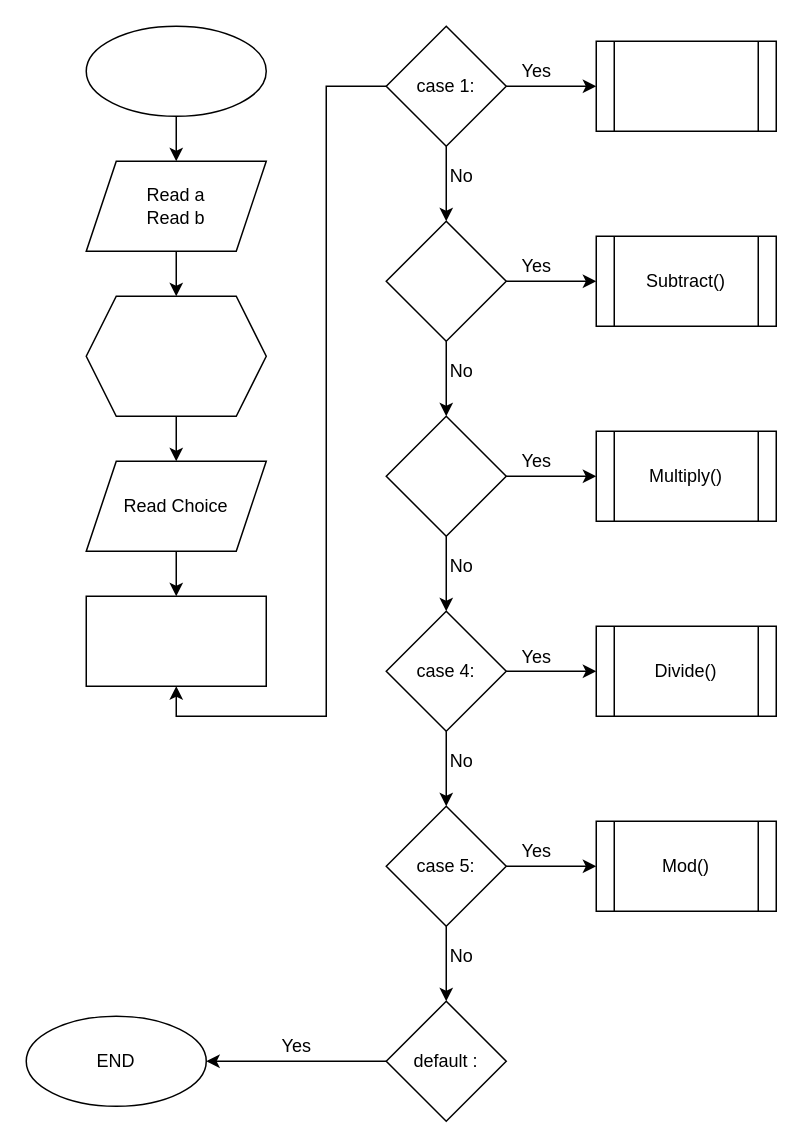
Some shapes in this 803 by 1148 pixel diagram are drawn without their labels. Each missing label, with the centre of its shape:
"Add()" goes at (685,85).
"case 2:" goes at (445,280).
"case 3:" goes at (445,475).
"Display Calculator Options" goes at (175,355).
"START" goes at (175,70).
"Switch(choice)" goes at (175,640).
